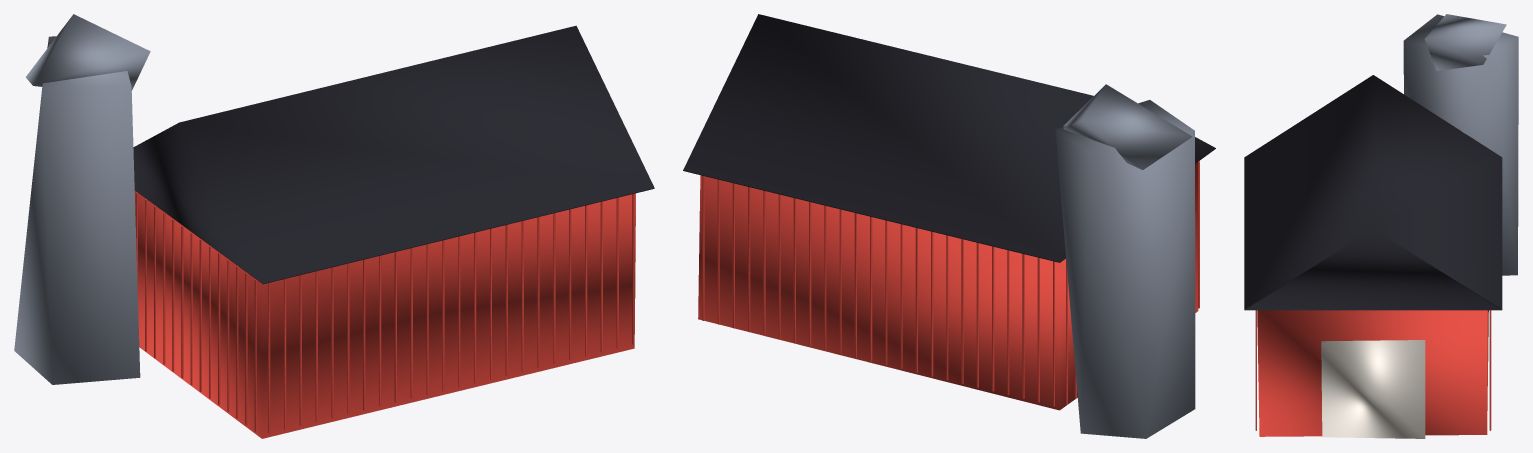
The model's file is barn.glb.
The picture shows the model from 3 angles, left to right: view 1: azimuth 30°, elevation 25°; view 2: azimuth 150°, elevation 25°; view 3: azimuth 270°, elevation 25°; orthographic projection. The views are drawn at different scales.
Parts seen in each view (by area): view 1: barn; view 2: barn; view 3: barn.
Boxes of the visible parts, left/top/right/bottom form: barn: left=14, top=14, right=654, bottom=438; barn: left=683, top=14, right=1215, bottom=438; barn: left=1244, top=14, right=1518, bottom=438.
Bounding box in the file's own units: 15.7 × 9.65 × 9.43.
1 material, 1 textured.
